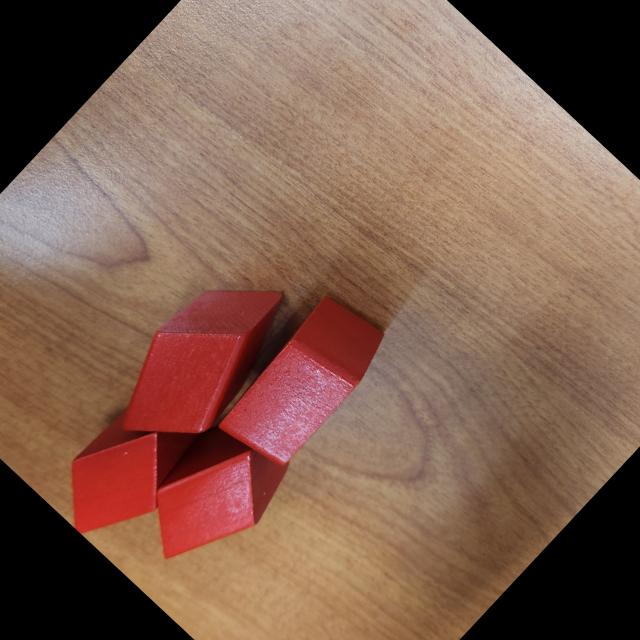red: (89, 246, 312, 475), (208, 285, 397, 479), (118, 404, 305, 594), (43, 392, 207, 558)
